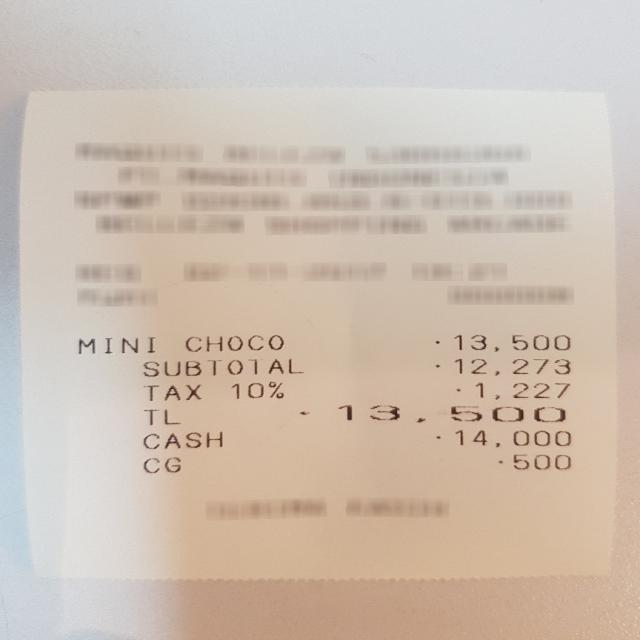kertas: (21, 89, 615, 579)
